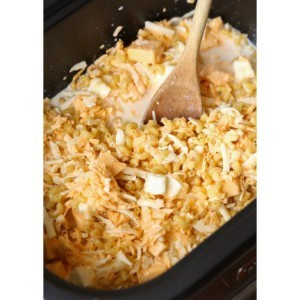cheese_brain food: (71, 121, 222, 244)
